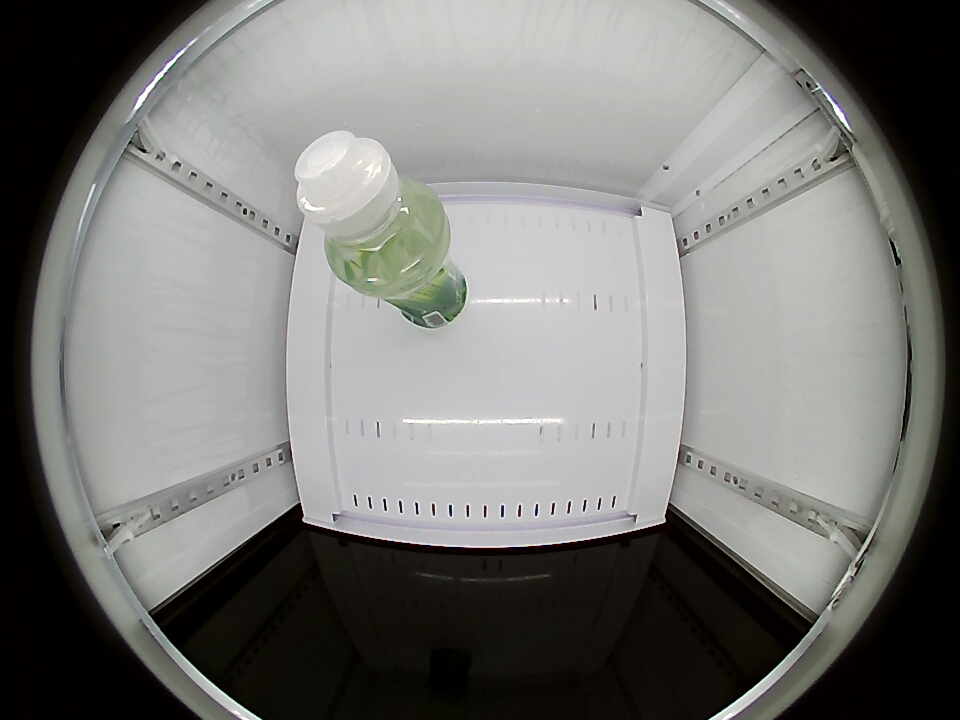jianjiao: (294, 130, 445, 291)
